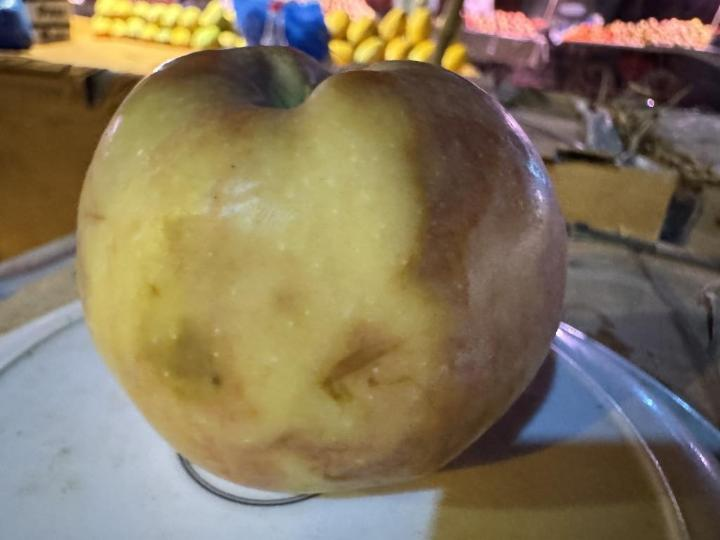apple: (77, 46, 566, 493)
surface_damage: (318, 337, 423, 408)
